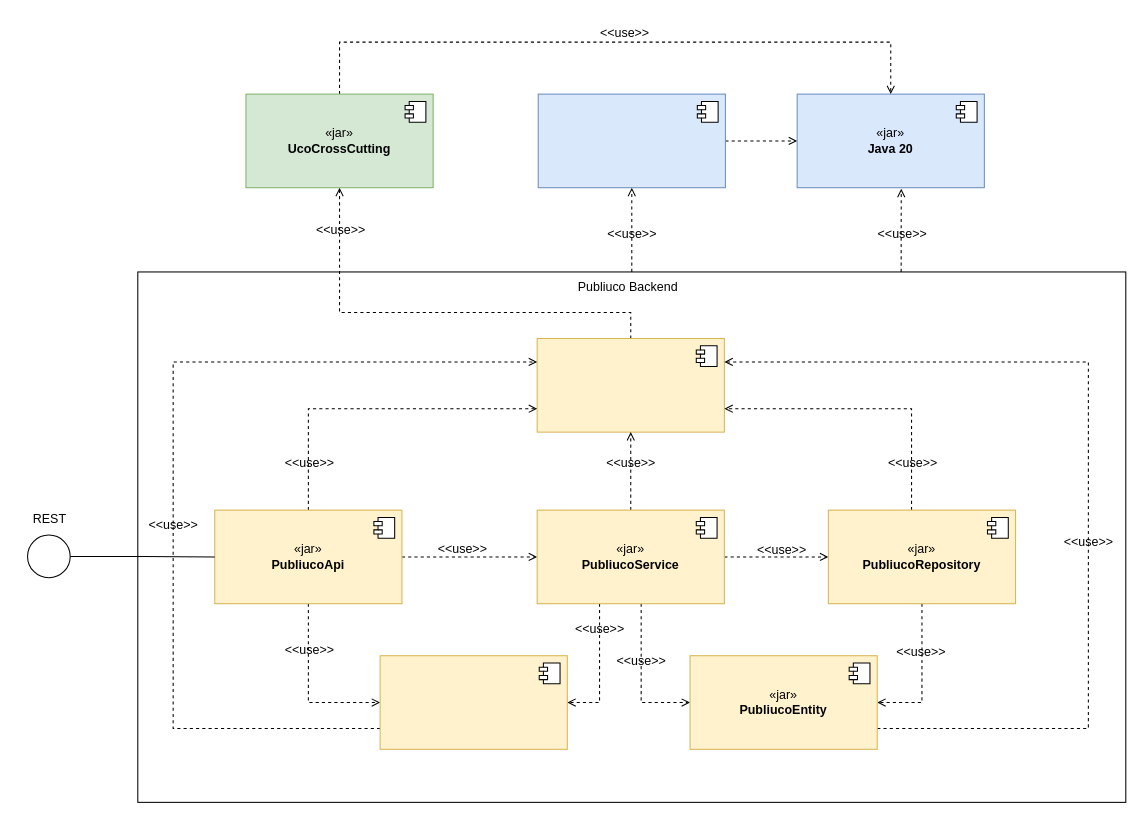
This 1144x821 diagram has some shape labels left out. Each missing label, with the box of its shape:
«jar» PubliucoCrossCutting: (536, 337, 724, 432)
«jar» PubliucoDTO: (379, 655, 567, 749)
«jar» SpringBoot 3.0.6: (537, 93, 725, 188)
